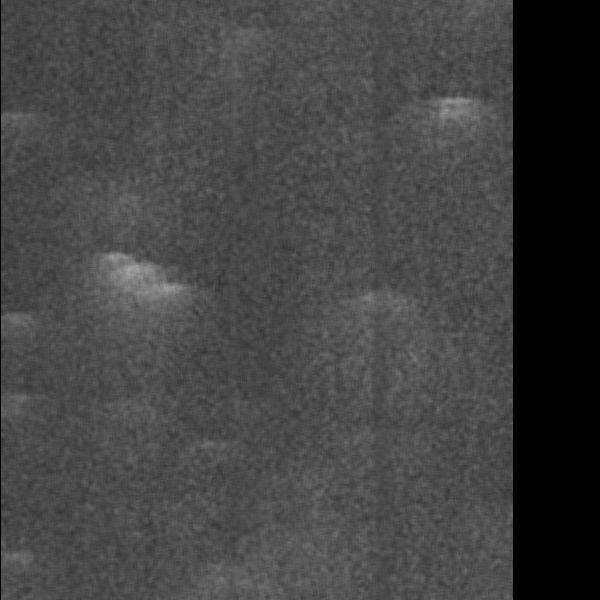spark: (434, 275, 496, 455), (24, 189, 77, 239), (47, 558, 94, 592), (182, 169, 229, 199), (176, 233, 206, 275), (172, 38, 209, 64), (35, 145, 66, 175), (15, 426, 43, 458), (374, 442, 401, 467), (354, 584, 383, 600)
